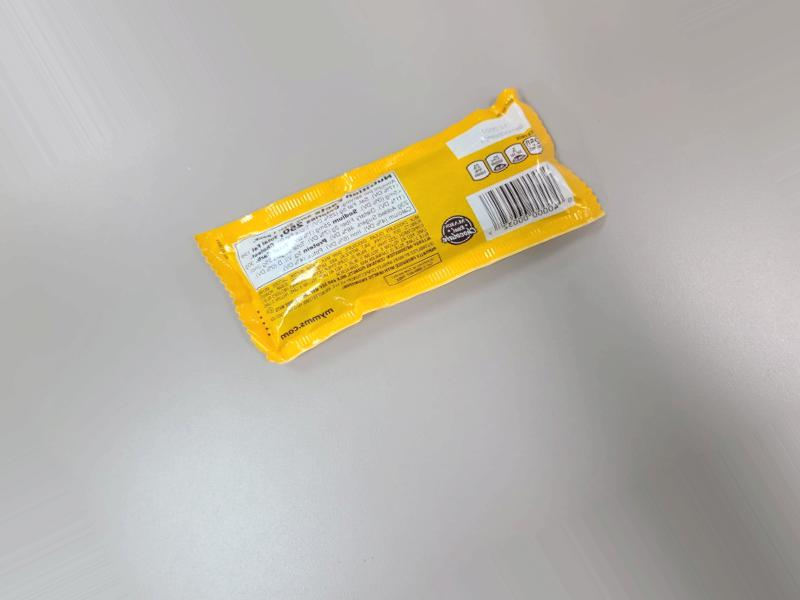m&m: (192, 96, 604, 379)
